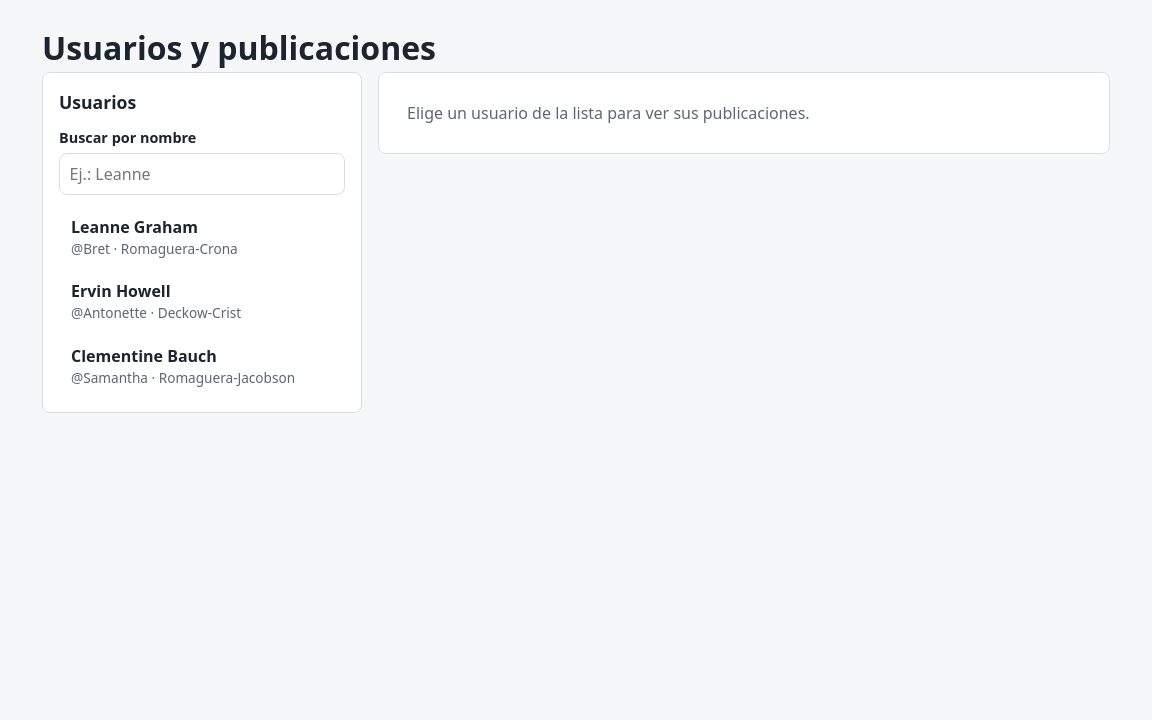
Test: Publicaciones de un usuario › al elegir un usuario muestra solo sus publicaciones
Expected: the text "Elige un usuario de la lista para ver sus publicaciones." is shown, [407,102,810,124]
Click the link "Leanne Graham @Bret · Romaguera-Crona". click: [154, 237]
box: [71,216,238,258]
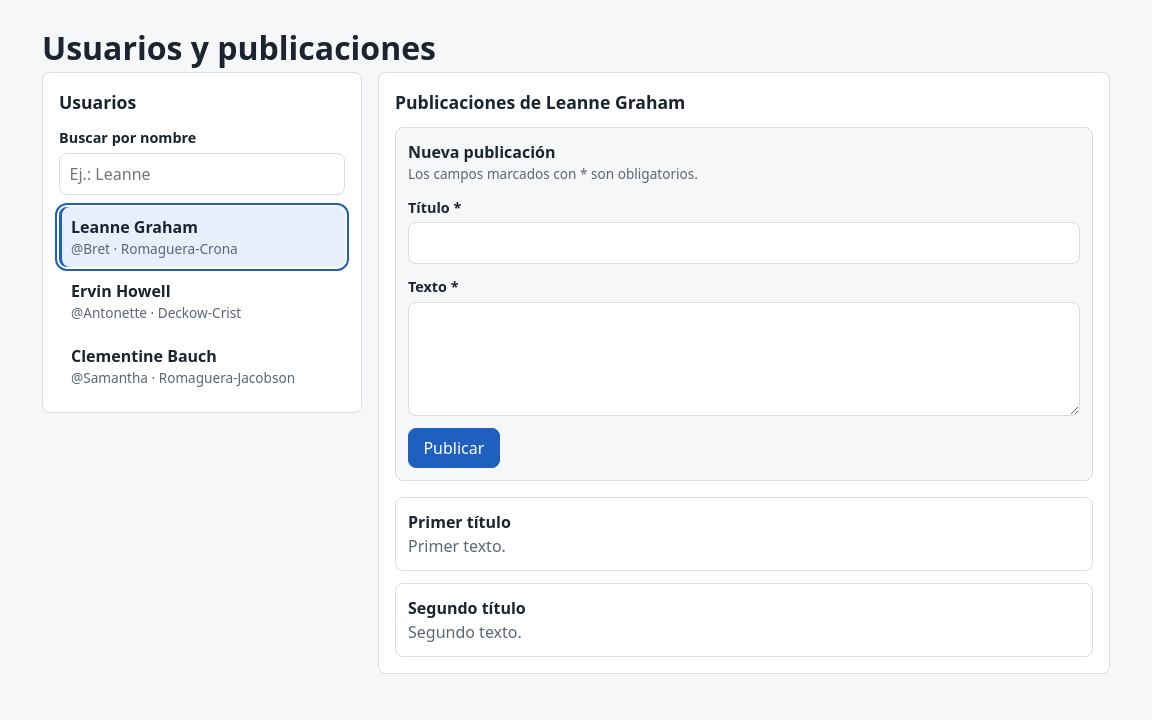
Expected: the heading "Publicaciones de Leanne Graham" is shown, [395,90,685,114]
